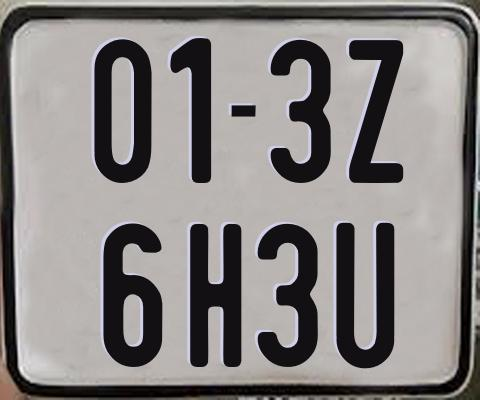0: (93, 36, 157, 184)
1: (170, 36, 217, 182)
3: (271, 40, 337, 186), (255, 223, 321, 367)
6: (103, 222, 166, 371)
H: (187, 221, 241, 369)
U: (335, 222, 393, 373)
Z: (346, 40, 400, 184)
